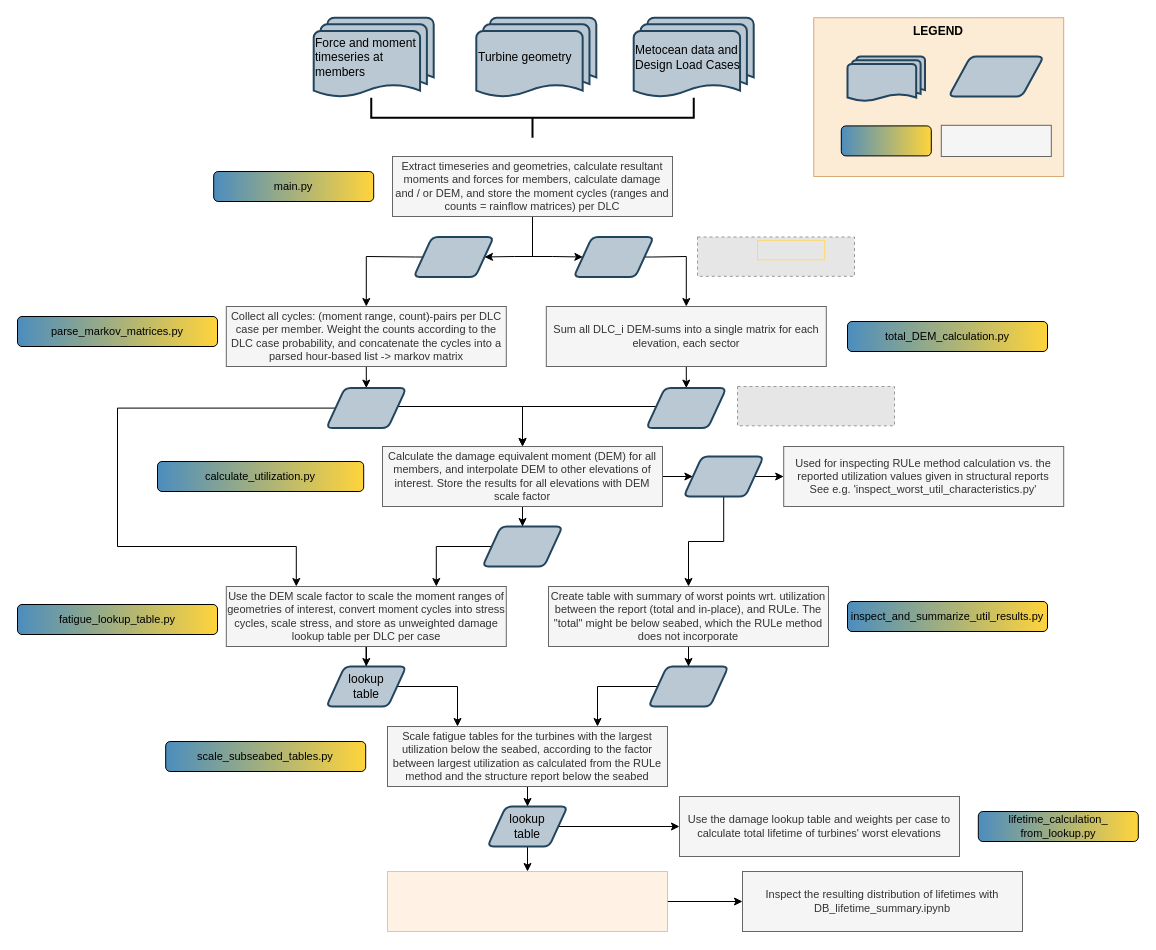
Some shapes in this 1156 by 950 pixel diagram are drawn without their labels. Grey dashed boxes stand in for pictures. The box of each missing label's shape, as (x1, y1, x2, y2) in pixels:
all utilizations: (682, 455, 764, 497)
combined DEM: (645, 387, 727, 429)
data- structures: (947, 55, 1044, 97)
DEM per DLC/case: (572, 236, 654, 278)
design data: (846, 55, 926, 102)
Function descriptions: (940, 124, 1051, 156)
python scripts: (840, 125, 931, 156)
rainflow matrices: (412, 236, 494, 278)
total markov: (325, 387, 407, 429)
USED IN THE RULE BACKEND: (386, 870, 668, 932)
util worst summary: (647, 665, 729, 707)
worst utilization: (481, 525, 563, 567)
